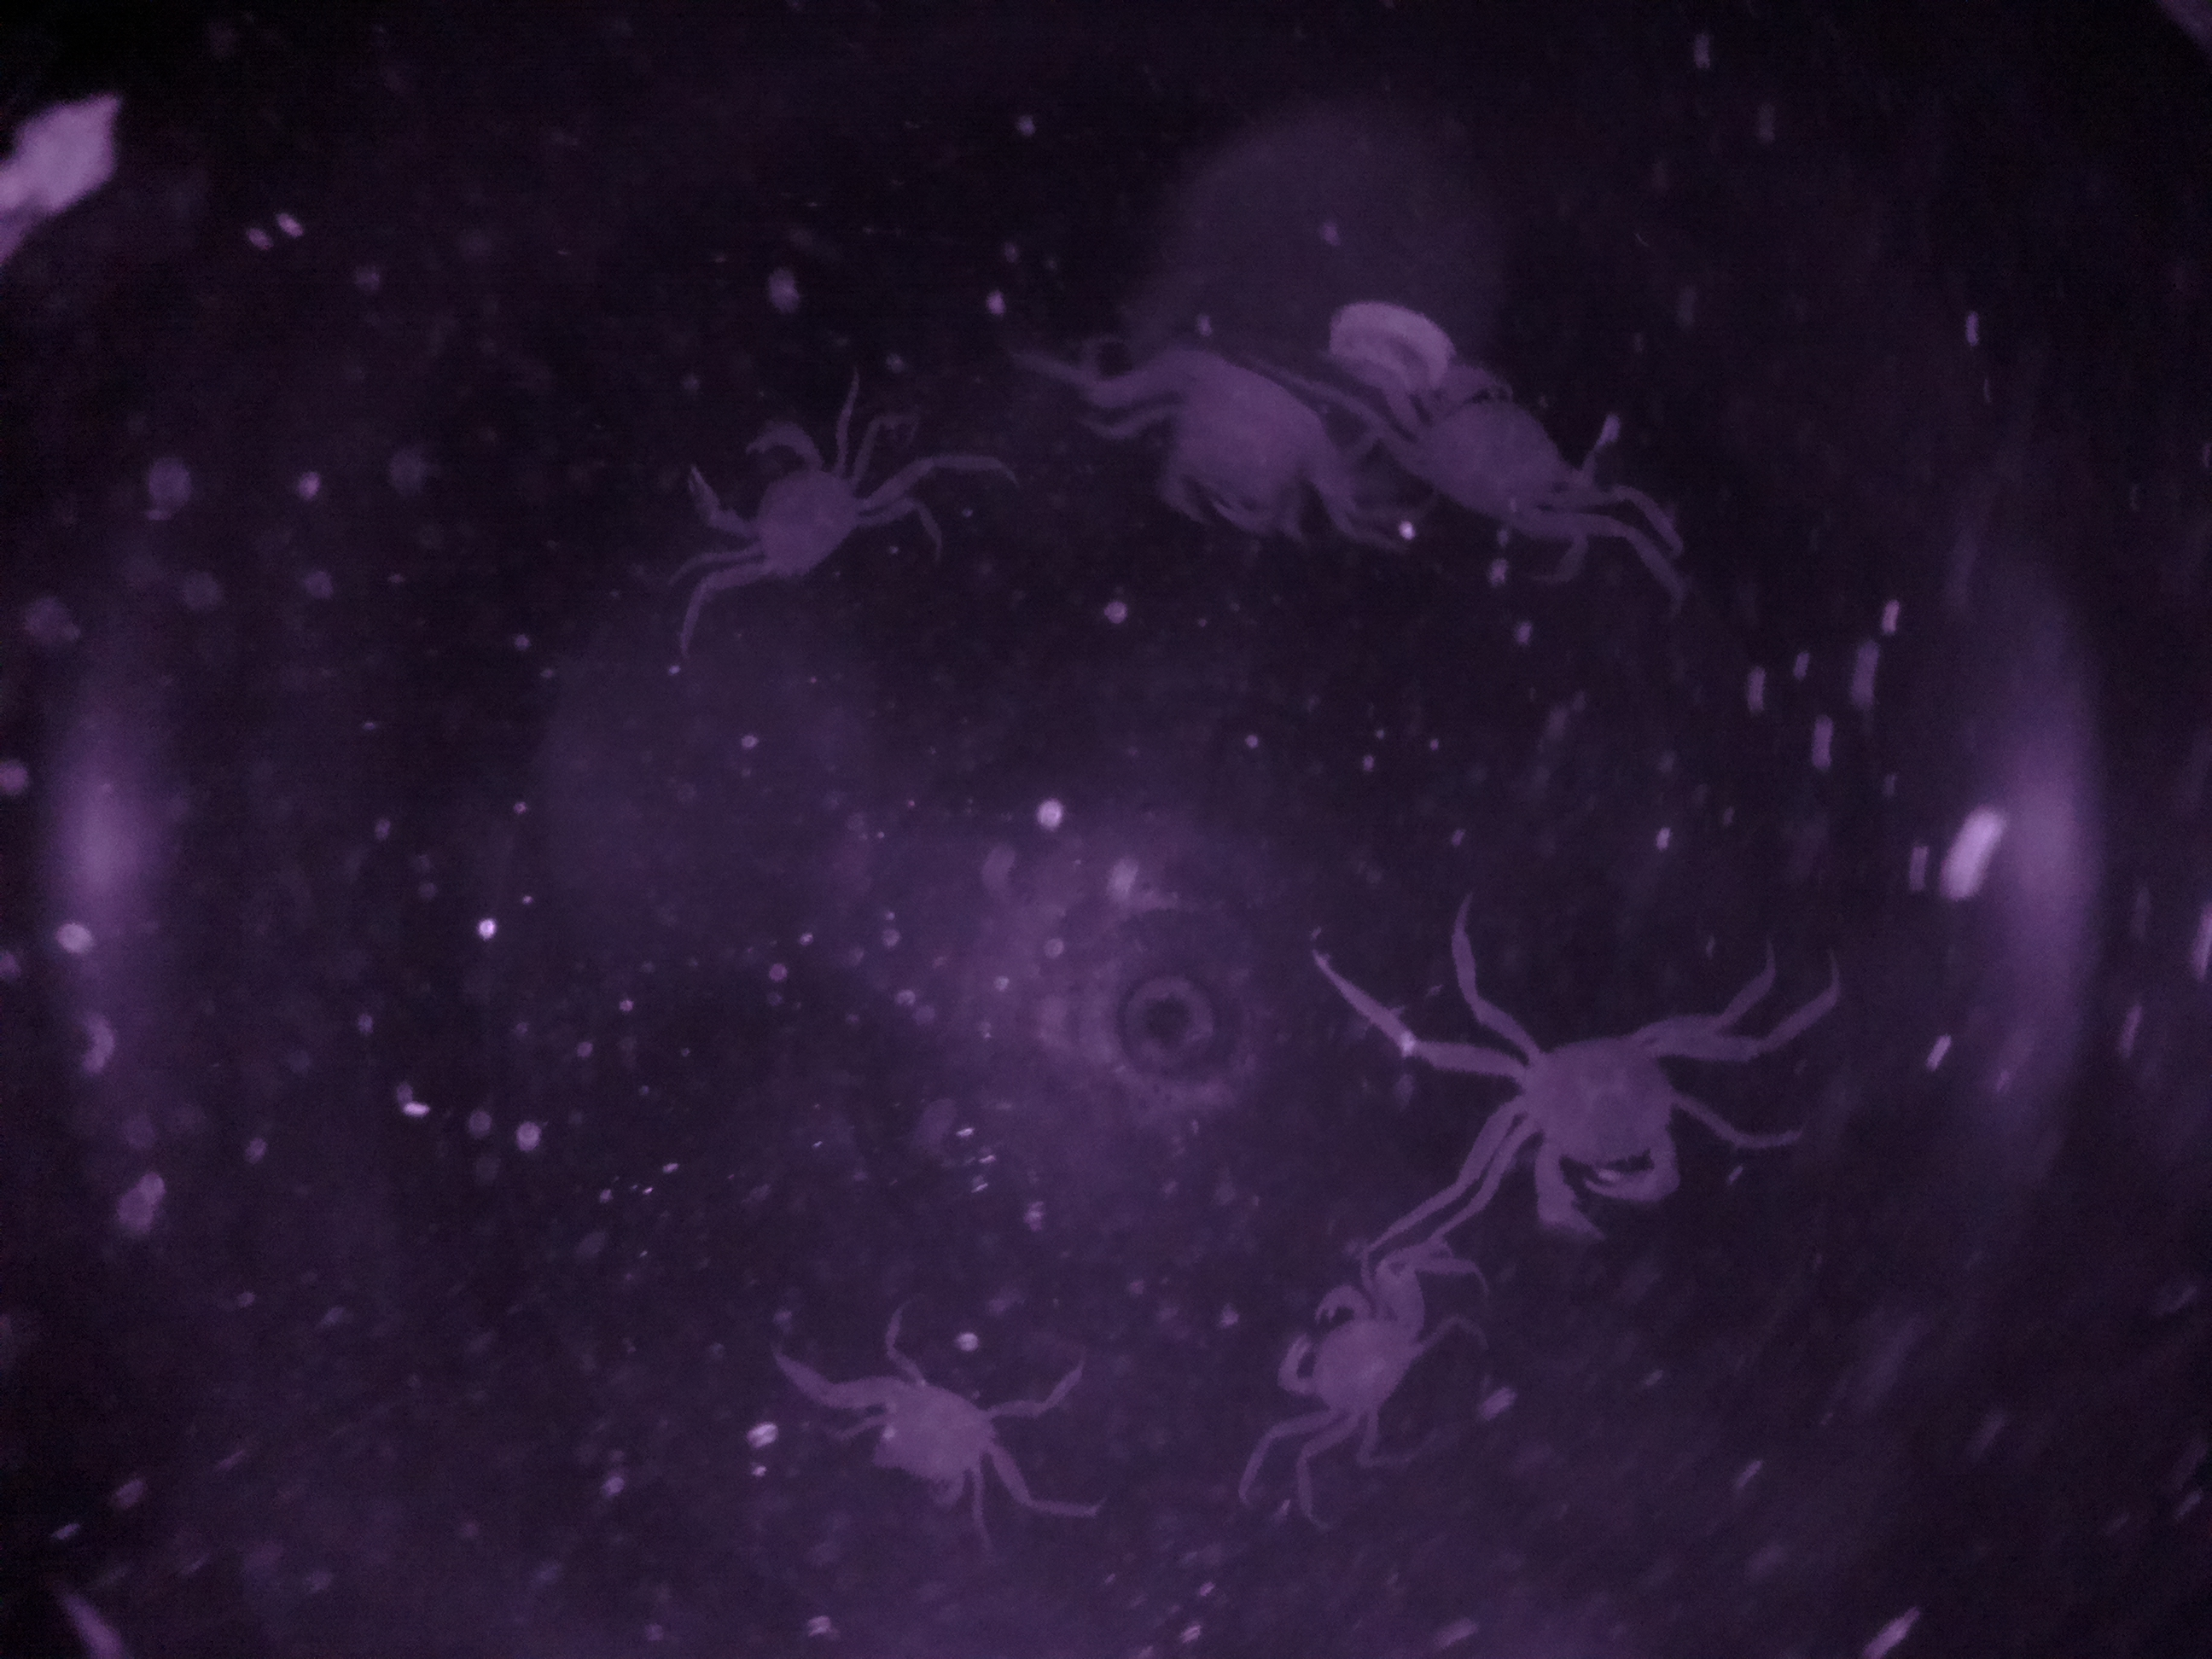Crab: (1475, 981, 1750, 1248), (1357, 312, 1629, 561), (669, 404, 913, 627), (1251, 1251, 1446, 1473)
